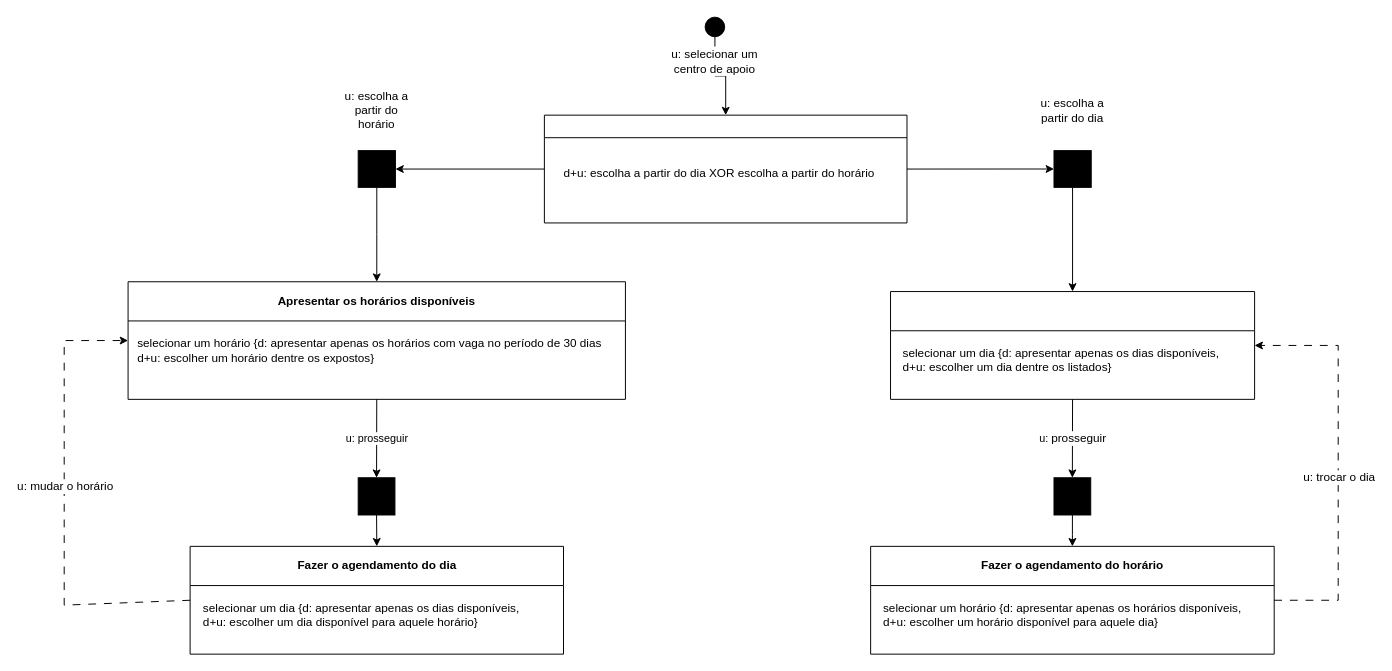
Some shapes in this 1392 by 671 pixel diagram are drawn without their labels. The shapes that lost their labels are listed below. From the top down, each one's box as (x1, y1, x2, y2) in pixels, then its label:
(543, 114, 907, 223): Fazer agendamento
(890, 291, 1255, 399): Apresentar dos dias disponíveis
